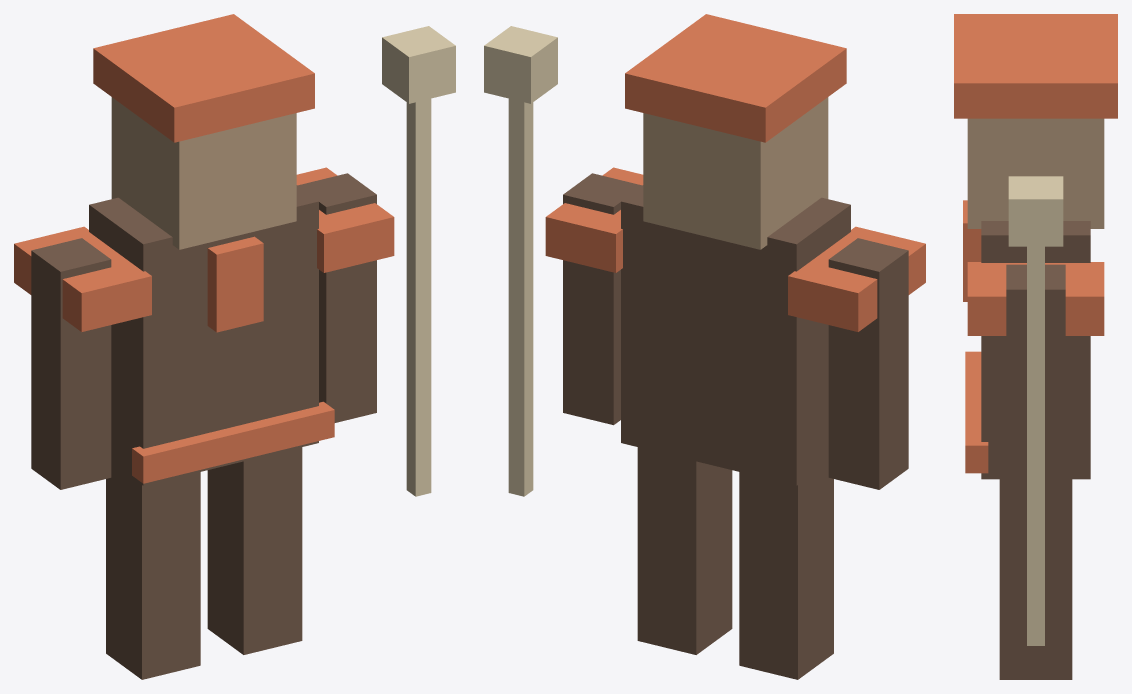
Rendered from 10_orin_emberkin_diver_of_echo.glb.
The picture shows the model from 3 angles, left to right: view 1: azimuth 30°, elevation 25°; view 2: azimuth 150°, elevation 25°; view 3: azimuth 270°, elevation 25°; orthographic projection.
Parts seen in each view (by area): view 1: Orin Emberkin, Diver of Echo; view 2: Orin Emberkin, Diver of Echo; view 3: Orin Emberkin, Diver of Echo.
Part boxes in pixels (<box>): Orin Emberkin, Diver of Echo: <box>14,14,455,679</box>; Orin Emberkin, Diver of Echo: <box>484,14,925,679</box>; Orin Emberkin, Diver of Echo: <box>954,14,1117,679</box>.
Size of the model in its own units: 1 by 1.41 by 0.3547.
